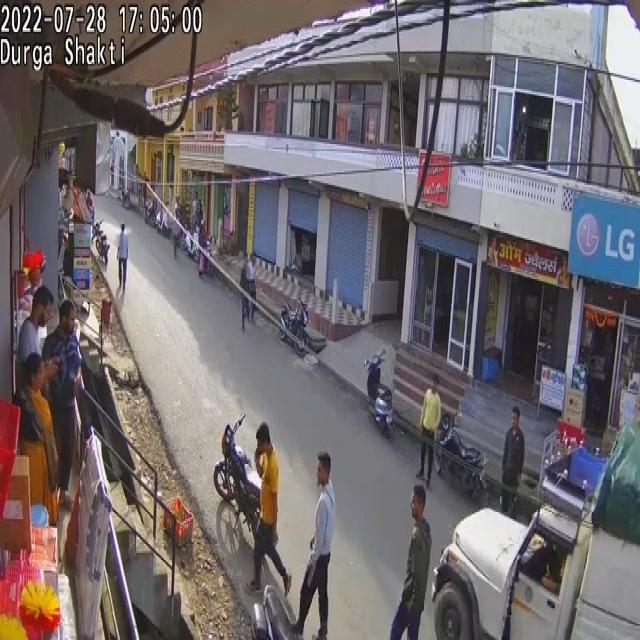non-fight: (290, 448, 334, 639), (43, 300, 83, 500), (244, 422, 288, 594), (17, 352, 60, 524), (386, 480, 432, 638), (501, 406, 526, 522), (17, 287, 49, 375), (417, 374, 441, 487), (311, 481, 337, 564), (240, 250, 255, 326), (116, 222, 129, 294), (198, 222, 210, 276), (172, 206, 182, 260), (188, 183, 203, 211)
